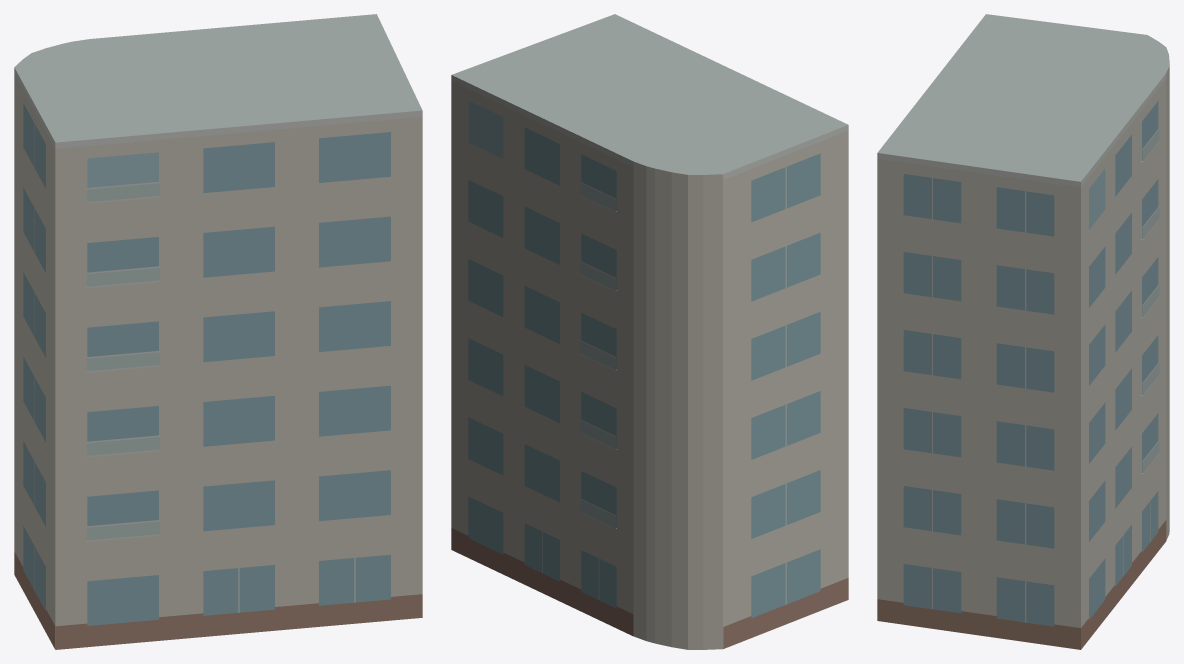
The model's file is survey-upis-32952520.glb.
The picture shows the model from 3 angles, left to right: view 1: azimuth 30°, elevation 25°; view 2: azimuth 150°, elevation 25°; view 3: azimuth 270°, elevation 25°; orthographic projection. The views are drawn at different scales.
Visible parts, largest first — view 1: survey-upis-32952520.tmp; view 2: survey-upis-32952520.tmp; view 3: survey-upis-32952520.tmp.
Part boxes in pixels (box(x1,y1,x2,y2)): survey-upis-32952520.tmp: box(14, 14, 422, 649); survey-upis-32952520.tmp: box(451, 14, 848, 649); survey-upis-32952520.tmp: box(877, 14, 1169, 649).
Bounding box in the file's own units: 15.24 × 19.8 × 11.21.
